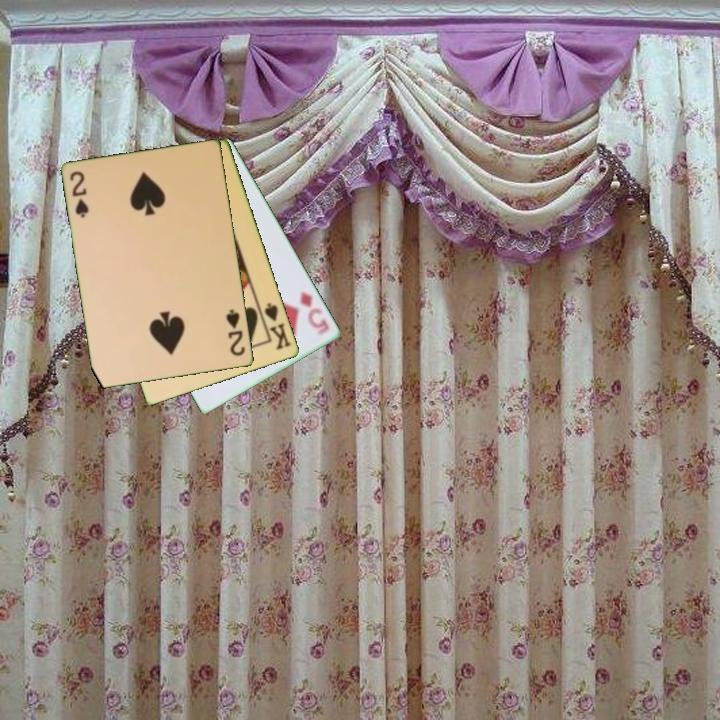2s: (223, 306, 248, 359), (67, 168, 92, 221)
5d: (297, 289, 332, 338)
Ks: (257, 299, 295, 353)
